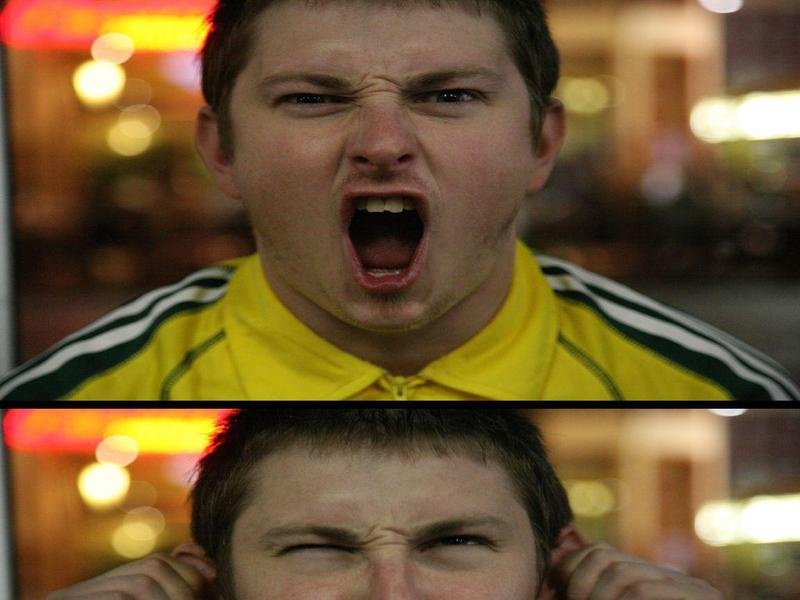person: (21, 3, 800, 404), (80, 405, 733, 600)
